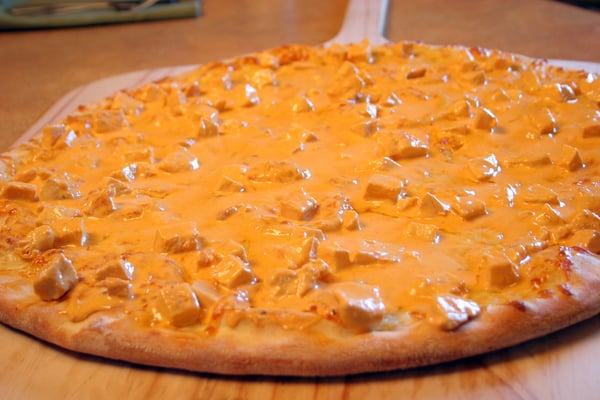curry: (1, 2, 597, 387)
sandwich: (0, 38, 599, 378)
